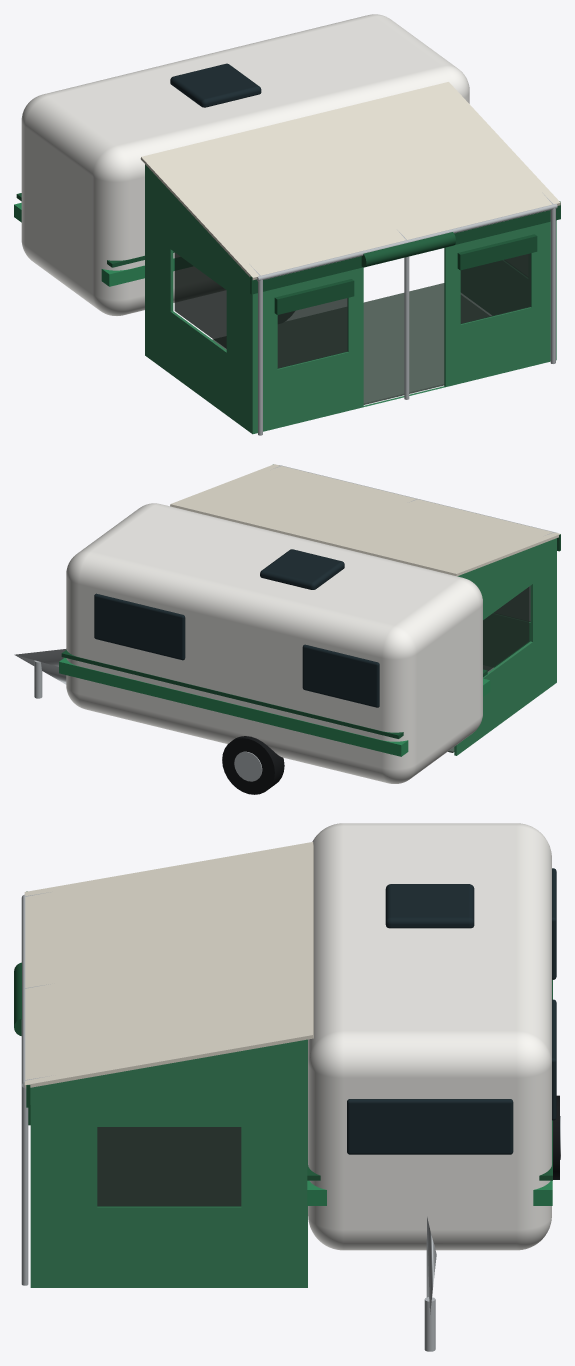
The model's file is producto.glb.
3 views of the same model, one above another, from view 1: azimuth 30°, elevation 25°; view 2: azimuth 150°, elevation 25°; view 3: azimuth 270°, elevation 25° (orthographic). The views are drawn at different scales.
Parts seen in each view (by area): view 1: carroceria, techo, frontal, lateral-izq, suelo, mosquitera (×2), mosquitera-lateral, tapa-enrollada (×2), lateral-der, visera, pata (×3), claraboya (+3 smaller); view 2: carroceria, techo, lateral-izq, ventana (×2), franja, mosquitera-lateral, claraboya, rueda, frontal, franja-fina, lanza, llanta; view 3: carroceria, techo, lateral-der, mosquitera-lateral, suelo, ventana-frontal, claraboya, pata, travesano, franja.
Boxes of the visible parts, box(x1,y1,x2,y2) form: carroceria: box(21, 14, 469, 315); techo: box(140, 82, 560, 280); frontal: box(255, 221, 550, 433); lateral-izq: box(145, 164, 255, 434); suelo: box(212, 283, 488, 404); mosquitera (×2): box(277, 253, 530, 368); mosquitera-lateral: box(174, 252, 226, 348); tapa-enrollada (×2): box(274, 234, 537, 314); lateral-der: box(461, 220, 556, 360); visera: box(250, 201, 560, 294); pata (×3): box(258, 208, 555, 435); claraboya: box(170, 63, 261, 107); carroceria: box(66, 503, 482, 783); techo: box(170, 464, 560, 576); lateral-izq: box(454, 538, 556, 755); ventana (×2): box(94, 593, 379, 707); franja: box(59, 657, 490, 756); mosquitera-lateral: box(483, 587, 529, 671); claraboya: box(260, 549, 344, 589); rueda: box(222, 736, 284, 794); frontal: box(483, 614, 530, 667); franja-fina: box(61, 650, 487, 738); lanza: box(14, 649, 66, 684); llanta: box(234, 751, 262, 781); carroceria: box(308, 823, 551, 1250); techo: box(24, 842, 313, 1088); lateral-der: box(30, 1039, 307, 1287); mosquitera-lateral: box(97, 1127, 241, 1206); suelo: box(98, 1127, 240, 1205); ventana-frontal: box(347, 1099, 513, 1154); claraboya: box(385, 884, 474, 928); pata: box(21, 1085, 28, 1285); travesano: box(21, 894, 25, 1087); franja: box(307, 1180, 552, 1205).
Bounding box in the file's own units: 6.25 × 2.69 × 4.93.
